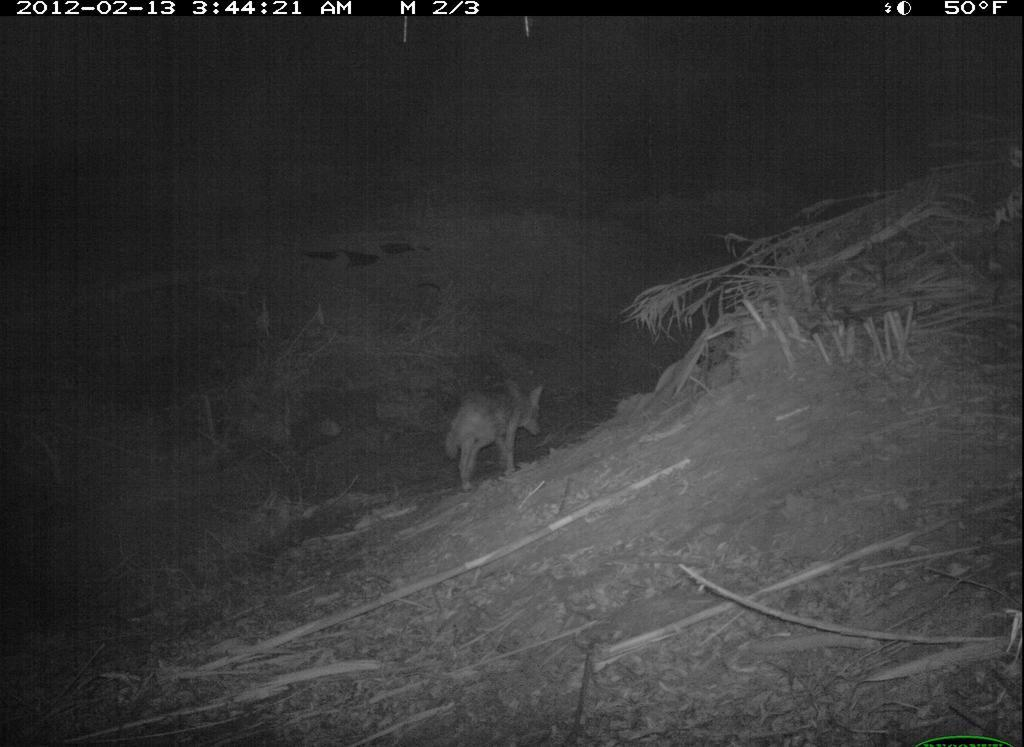coyote: (442, 374, 551, 497)
